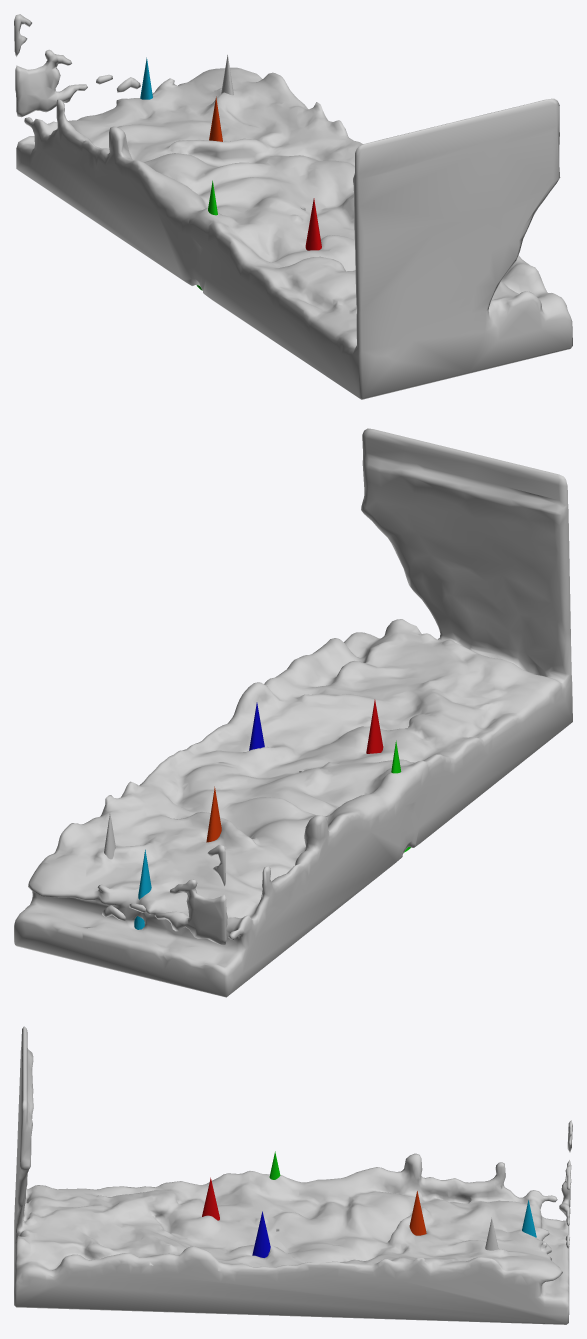
3 views of the same model, one above another, from view 1: azimuth 30°, elevation 25°; view 2: azimuth 150°, elevation 25°; view 3: azimuth 270°, elevation 25° (orthographic). The views are drawn at different scales.
Visible parts, largest first — view 1: Liquid_Domain, 円錐.001; view 2: Liquid_Domain; view 3: Liquid_Domain, 円錐.002, 円錐.004, 円錐.001.
Boxes of the visible parts, x1=… form: Liquid_Domain: x1=14, y1=14, x2=572, y2=399; 円錐.001: x1=305, y1=198, x2=321, y2=250; Liquid_Domain: x1=14, y1=428, x2=572, y2=997; Liquid_Domain: x1=14, y1=1026, x2=572, y2=1324; 円錐.002: x1=252, y1=1211, x2=270, y2=1257; 円錐.004: x1=409, y1=1191, x2=426, y2=1235; 円錐.001: x1=202, y1=1177, x2=219, y2=1220.
Bounding box in the file's own units: 129 × 158 × 364.
